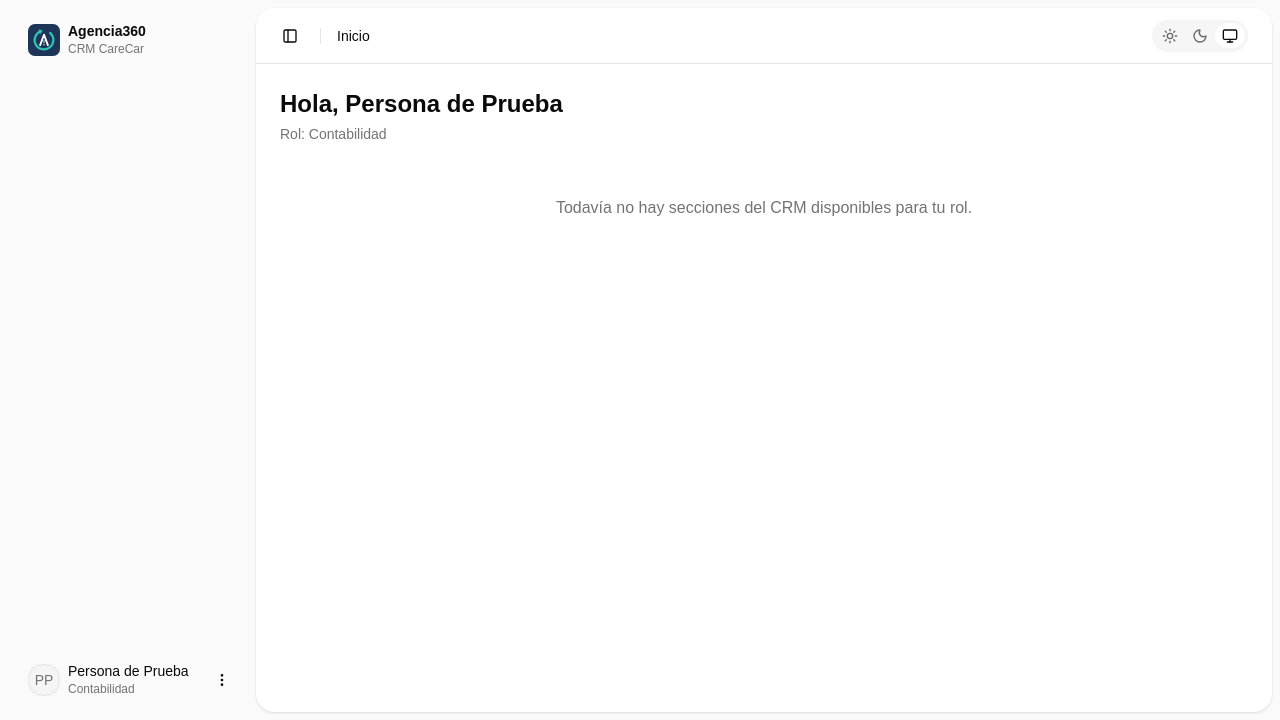
Test: Rutas protegidas y menú por rol › cierra la sesión y regresa al login
Click the button with aria-label "Perfil de Persona de Prueba" at (128, 680), box [16,656,240,704]
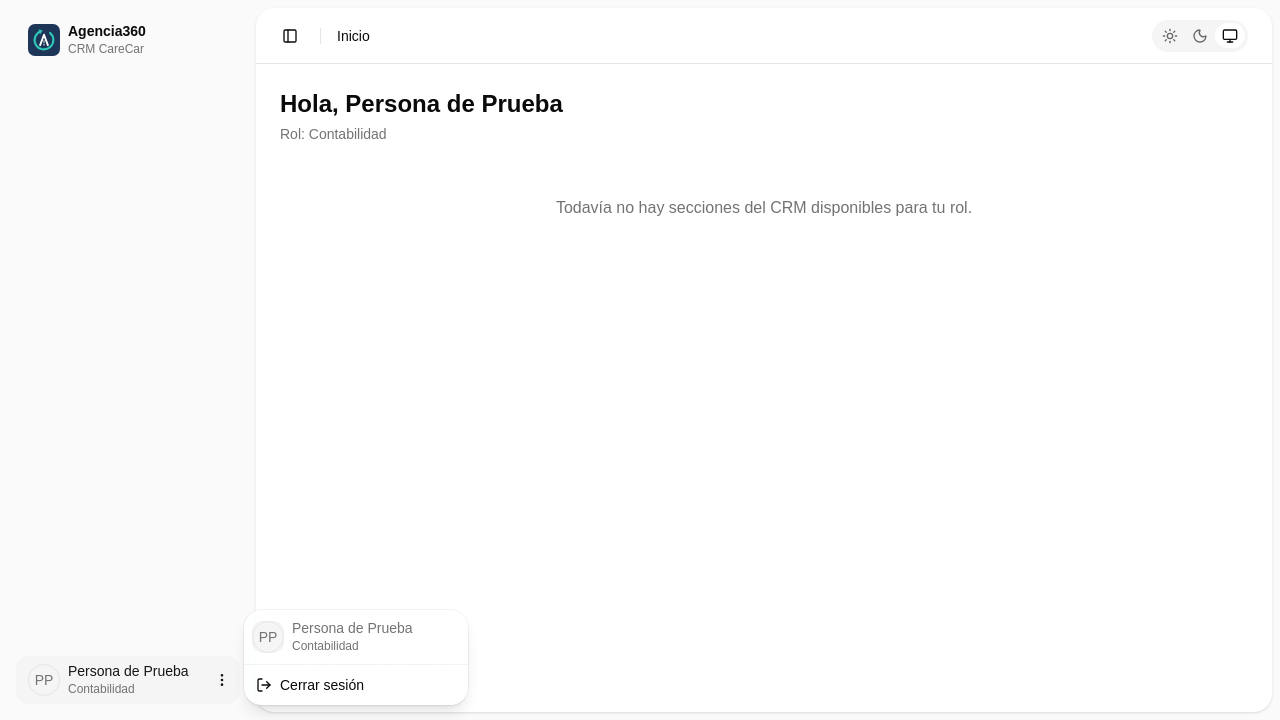
Click the menu item "Cerrar sesión" at (310, 684), box [256,676,364,692]
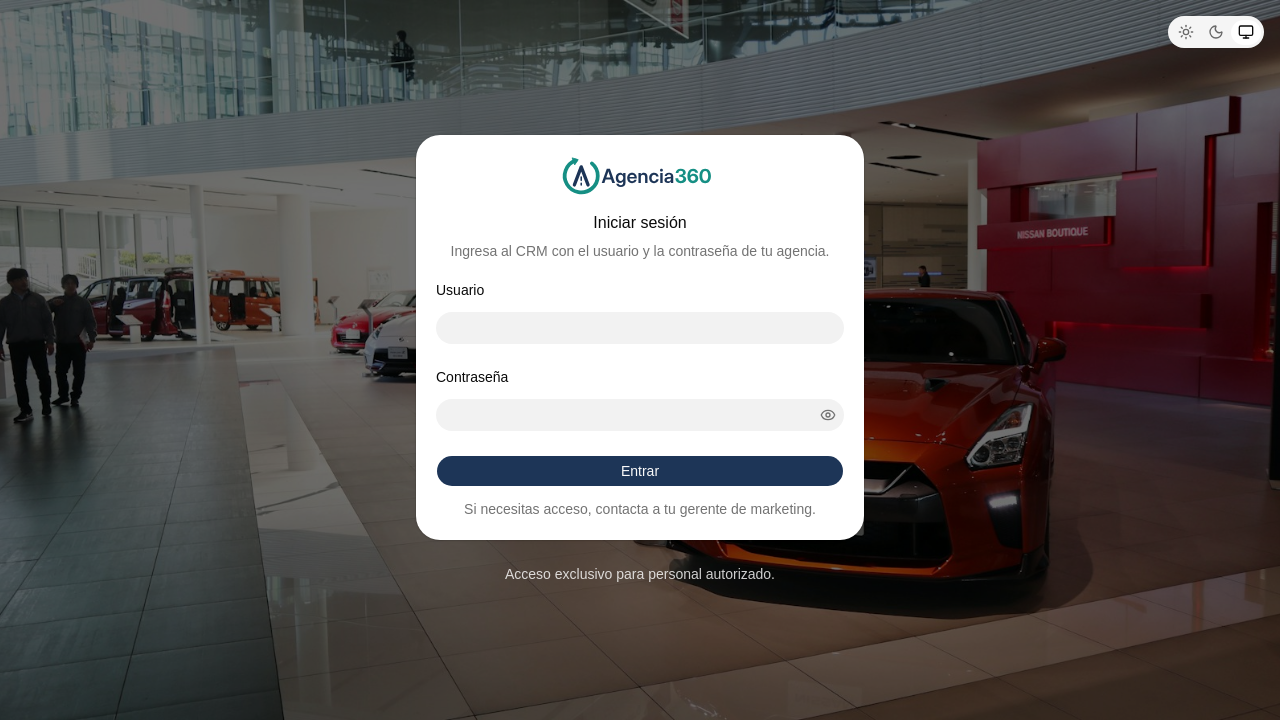
expect the button "Entrar" is shown: met, box [436,456,844,488]
